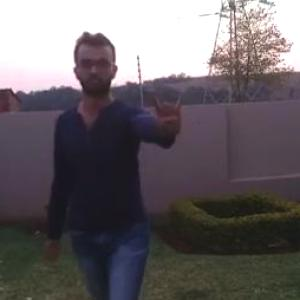takeoff-hand: (151, 88, 195, 134)
